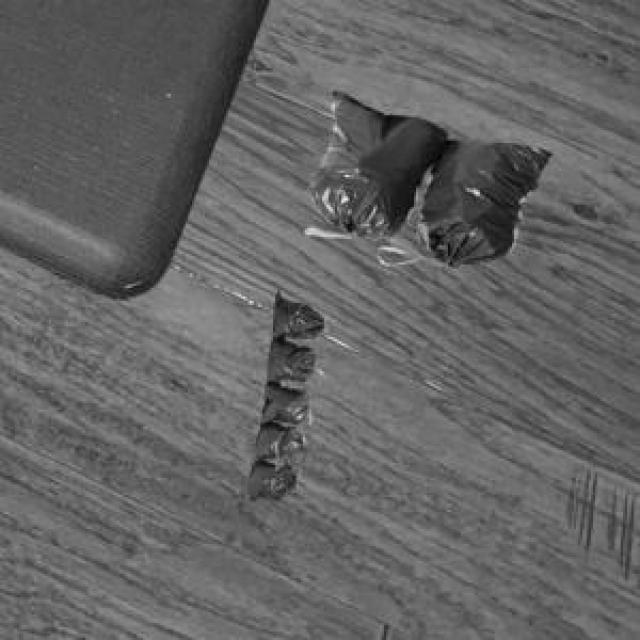miscellaneous trash: (301, 88, 548, 262), (245, 286, 322, 497)
